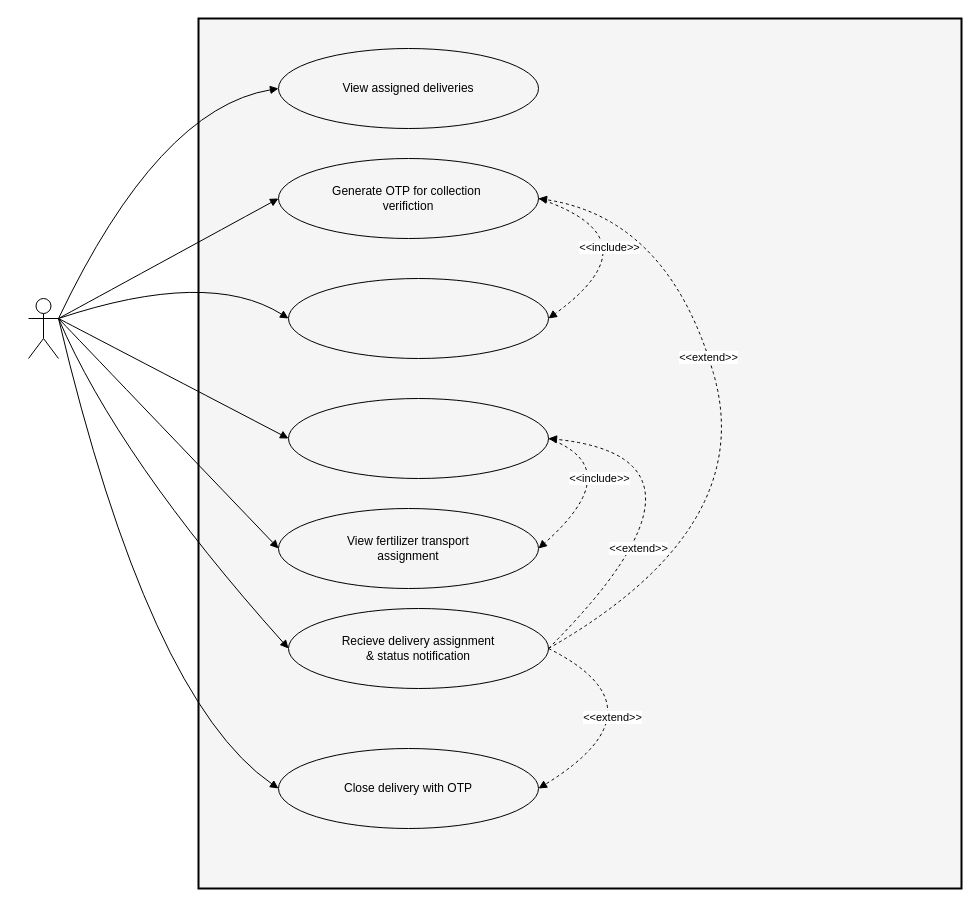
Some shapes in this 980 by 906 pixel diagram are drawn without their labels. Each missing label, with the centre of its shape:
Record collected tea weight: point 418,318
Tea Collection Agent: point 43,328
Transport Fertilizers to Tea Estates: point 418,438
